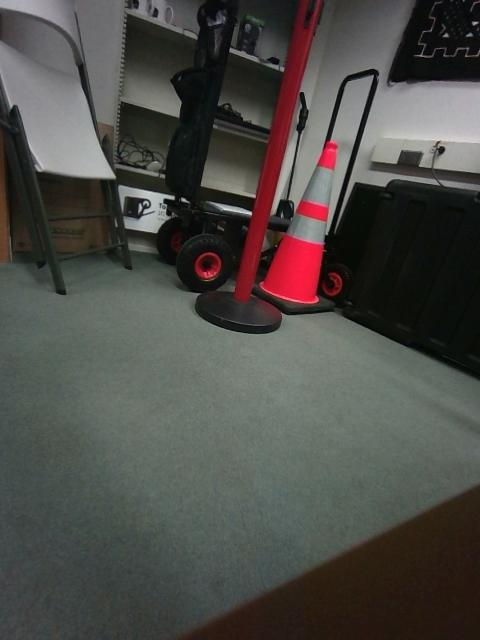block: (70, 294, 113, 362)
